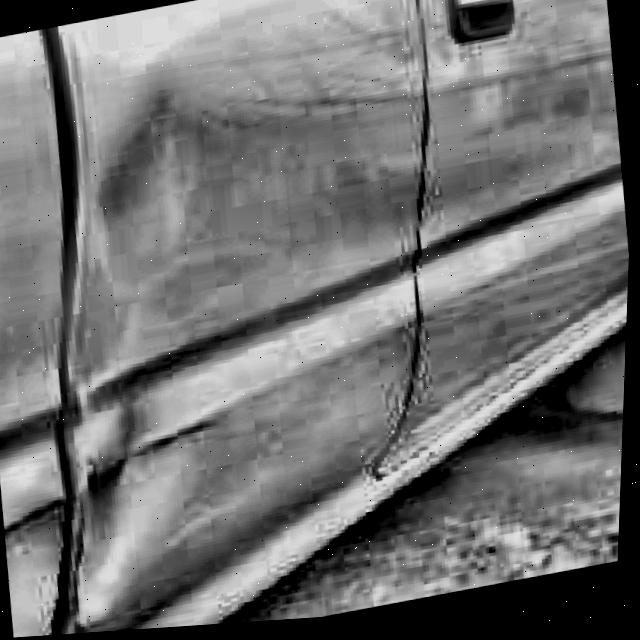door_dent: (0, 74, 289, 637)
